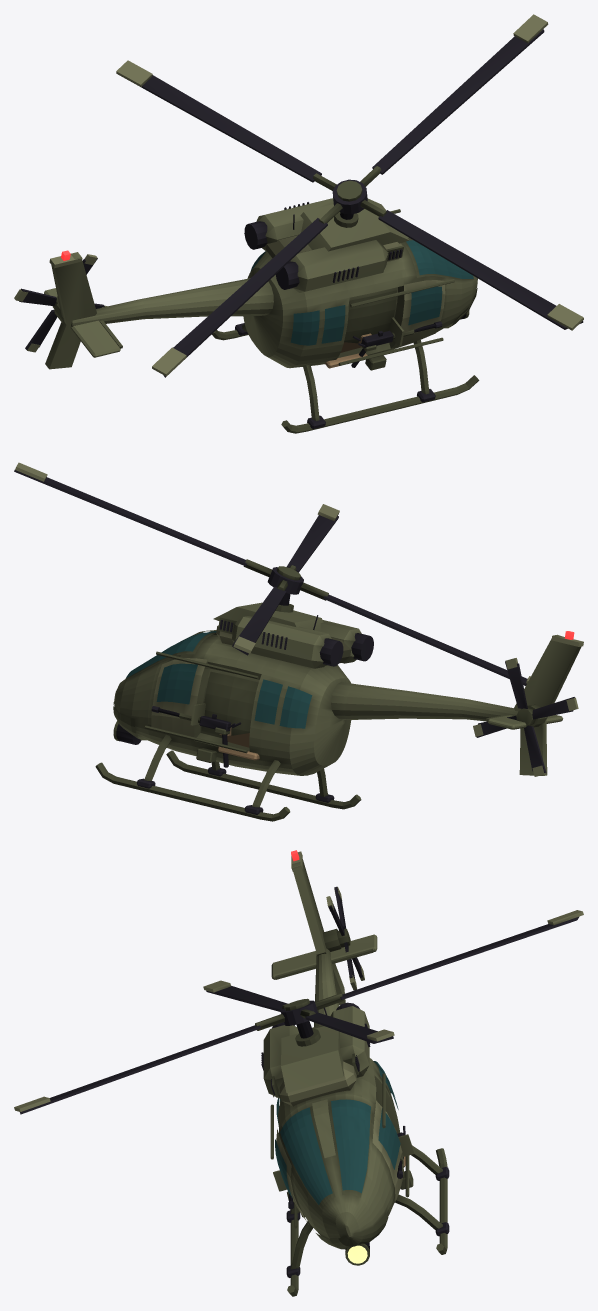
3 views of the same model, one above another, from view 1: azimuth 30°, elevation 25°; view 2: azimuth 150°, elevation 25°; view 3: azimuth 270°, elevation 25° (orthographic). The views are drawn at different scales.
Parts seen in each view (by area): view 1: body_pal_picketWhite, mainRotor_pal_picketWhite, tailRotor_pal_picketWhite, doorGunR_pal_picketWhite; view 2: body_pal_picketWhite, mainRotor_pal_picketWhite, tailRotor_pal_picketWhite, doorGun_pal_picketWhite; view 3: body_pal_picketWhite, mainRotor_pal_picketWhite, tailRotor_pal_picketWhite.
Boxes of the visible parts, bbox=[...] form: body_pal_picketWhite: bbox=[44, 198, 479, 433]; mainRotor_pal_picketWhite: bbox=[116, 14, 583, 377]; tailRotor_pal_picketWhite: bbox=[14, 254, 107, 352]; doorGunR_pal_picketWhite: bbox=[352, 317, 442, 351]; body_pal_picketWhite: bbox=[95, 593, 583, 821]; mainRotor_pal_picketWhite: bbox=[14, 462, 530, 685]; tailRotor_pal_picketWhite: bbox=[473, 658, 578, 776]; doorGun_pal_picketWhite: bbox=[151, 703, 241, 736]; body_pal_picketWhite: bbox=[261, 851, 449, 1296]; mainRotor_pal_picketWhite: bbox=[14, 910, 583, 1114]; tailRotor_pal_picketWhite: bbox=[326, 886, 364, 990].
Size of the model in its own units: 10.96 by 5.97 by 9.5.
